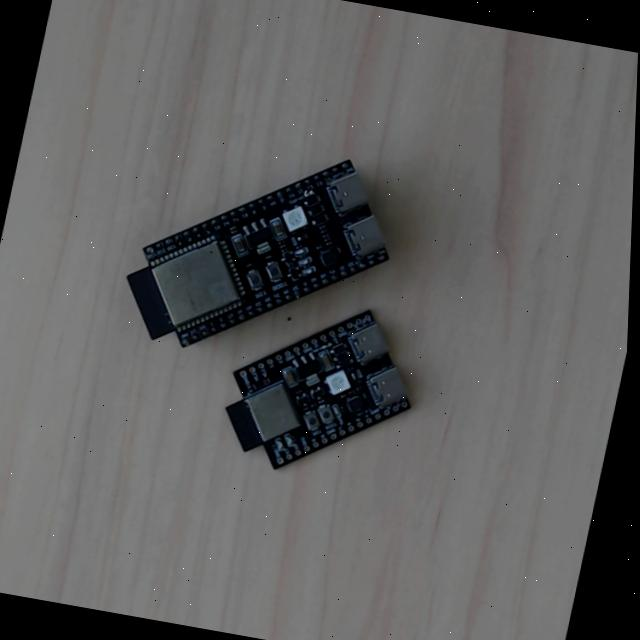ESP32C3-DevKit: (211, 306, 415, 477)
ESP32S3-Devkit: (116, 156, 394, 357)
